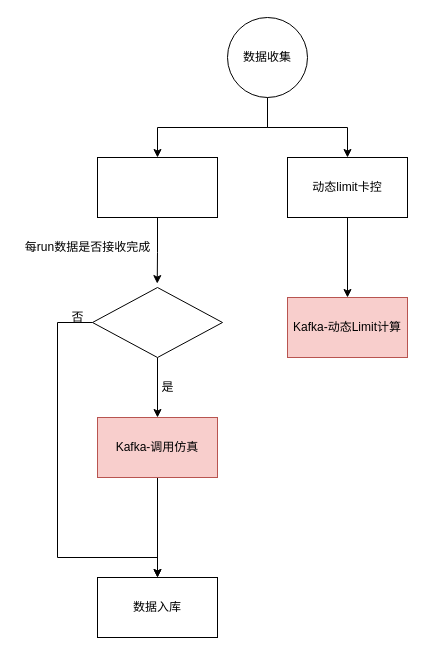
The diagram is 425 pixels wide and 655 high, and some of its shapes have lost their labels. The shapes that lost their labels are listed below. From the top down, each one's centre as x and y in pixels, then its label:
At (x=157, y=187): "预处理(入库)".
At (x=157, y=322): "相同chamber上 RunId是否变化".
